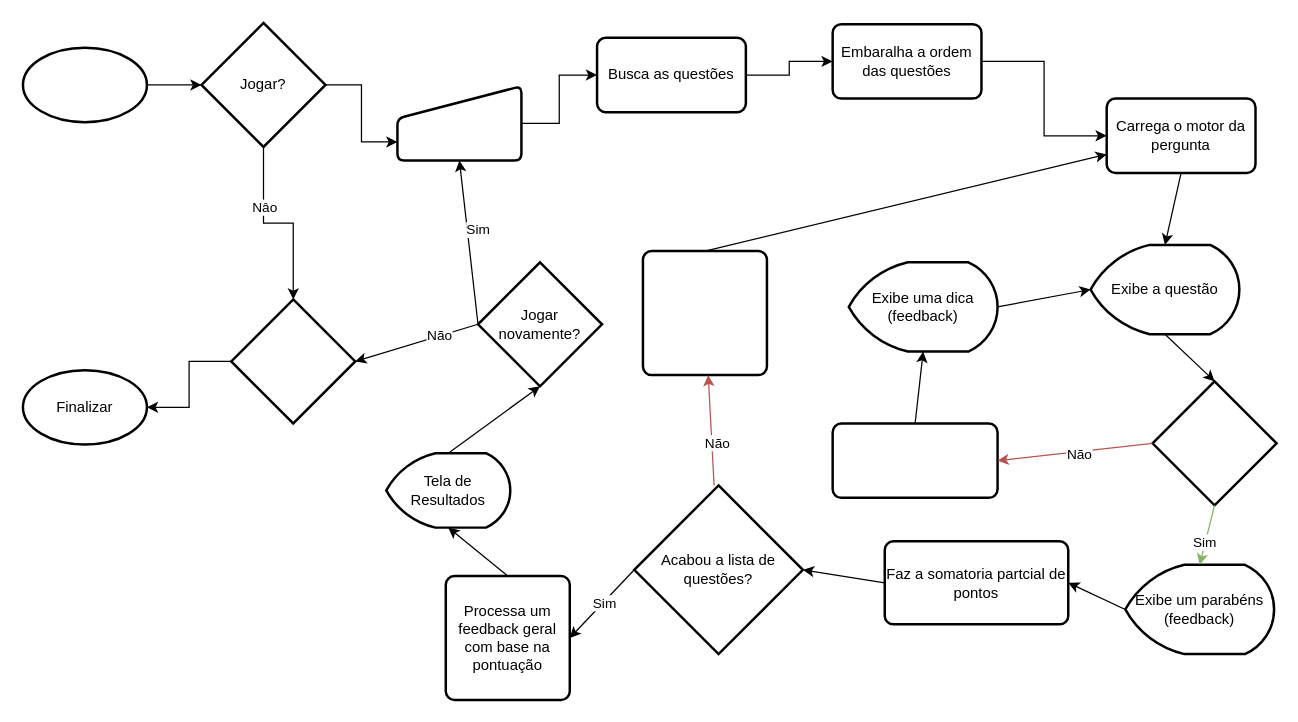
This 1298x722 diagram has some shape labels left out. The centre of each missing label's shape, as x and y in pixels:
"Acertou a Perngunta?" belongs at [1214,442].
"Busca um feedback para a questão" belongs at [914,460].
"Iniciar" belongs at [84,84].
"Lista de questões QuestionBaseModel" belongs at [459,122].
"Próxima questão" belongs at [704,312].
"Sair do jogo?" belongs at [292,361].
